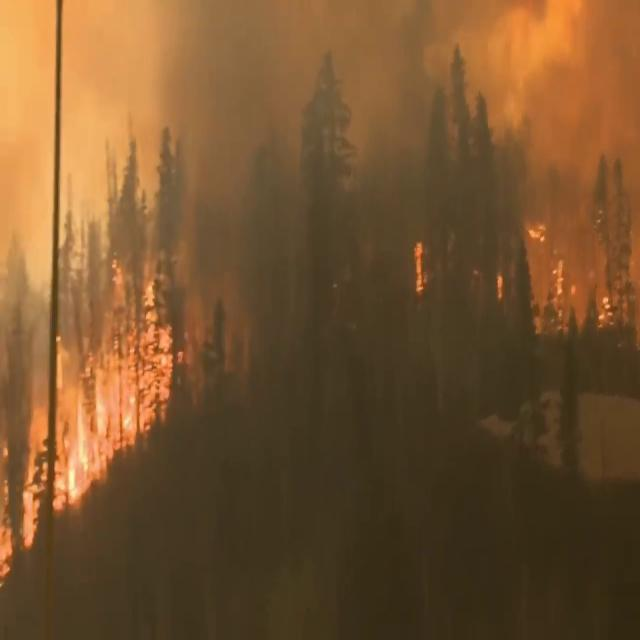Fire: (4, 245, 188, 555)
Smoke: (105, 0, 640, 382)
